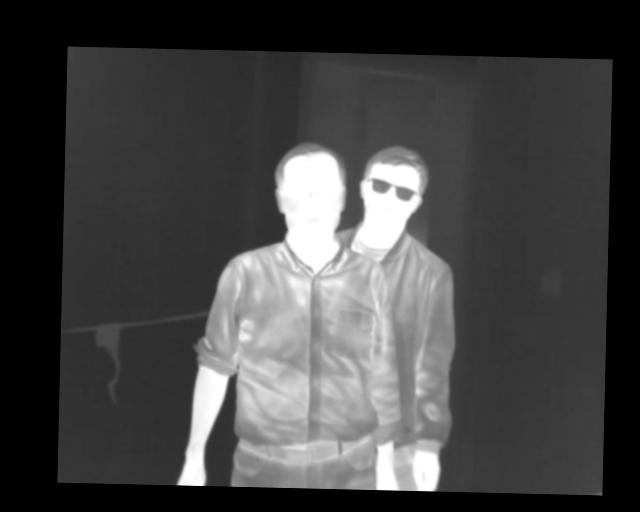face: (272, 140, 349, 244), (358, 143, 428, 231)
